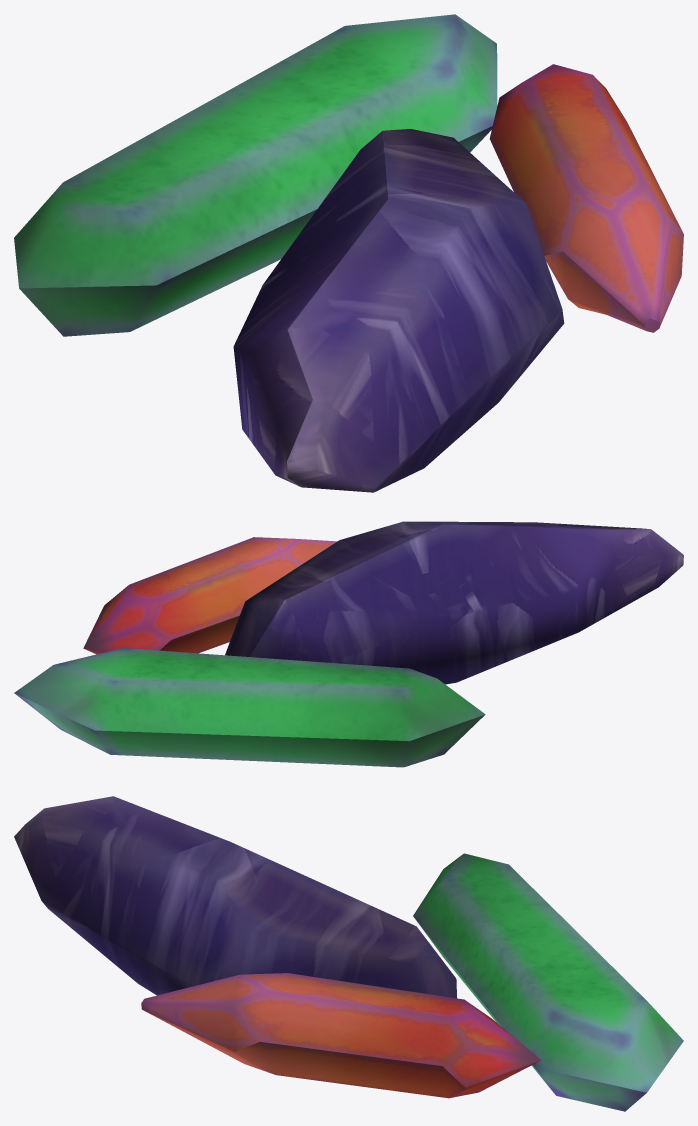
The model's file is SM_Potion_Props_Loot_Gem_01_C.fbx.
3 renders of one model, top to bottom at view 1: azimuth 30°, elevation 25°; view 2: azimuth 150°, elevation 25°; view 3: azimuth 270°, elevation 25°, orthographic. The views are drawn at different scales.
Visible parts, largest first — view 1: SM_Potion_Props_Loot_Gem_01_C_LOD0; view 2: SM_Potion_Props_Loot_Gem_01_C_LOD0; view 3: SM_Potion_Props_Loot_Gem_01_C_LOD0.
Part boxes in pixels (x1,y1,x2,y2): SM_Potion_Props_Loot_Gem_01_C_LOD0: (14, 14, 683, 492); SM_Potion_Props_Loot_Gem_01_C_LOD0: (14, 521, 683, 767); SM_Potion_Props_Loot_Gem_01_C_LOD0: (14, 796, 683, 1111).
Size of what is drawn, in the model's own units: 12.11 by 3.92 by 15.26.
